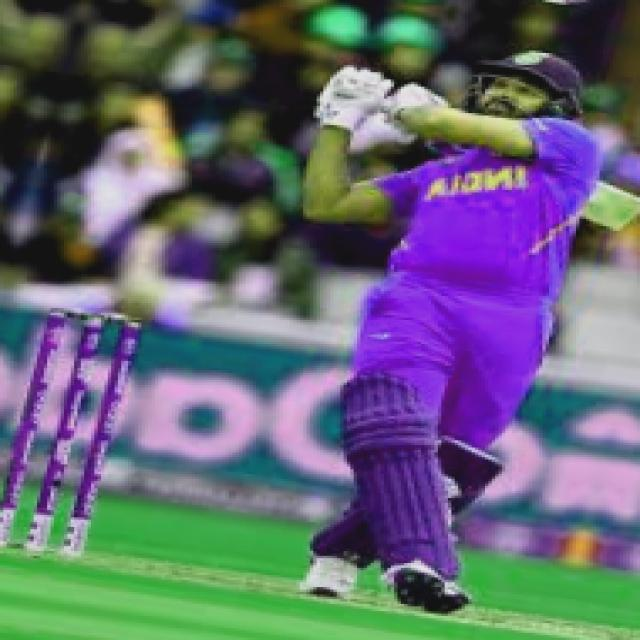toe: (601, 192, 640, 232)
